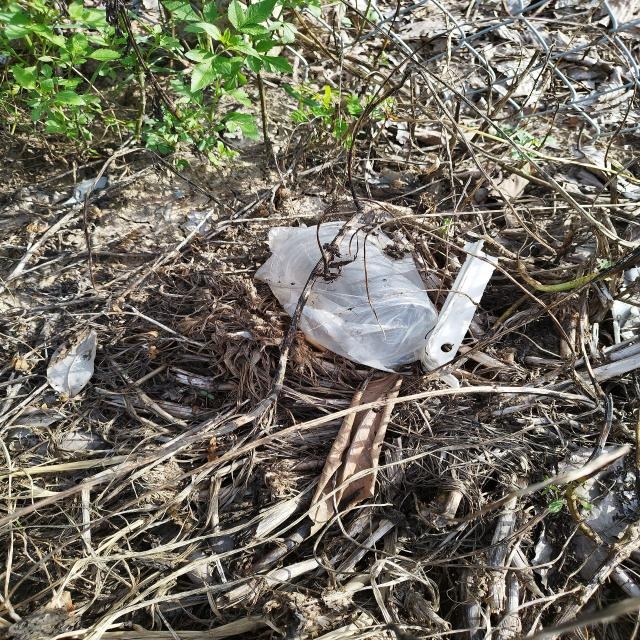plastic glass: (266, 220, 435, 371)
